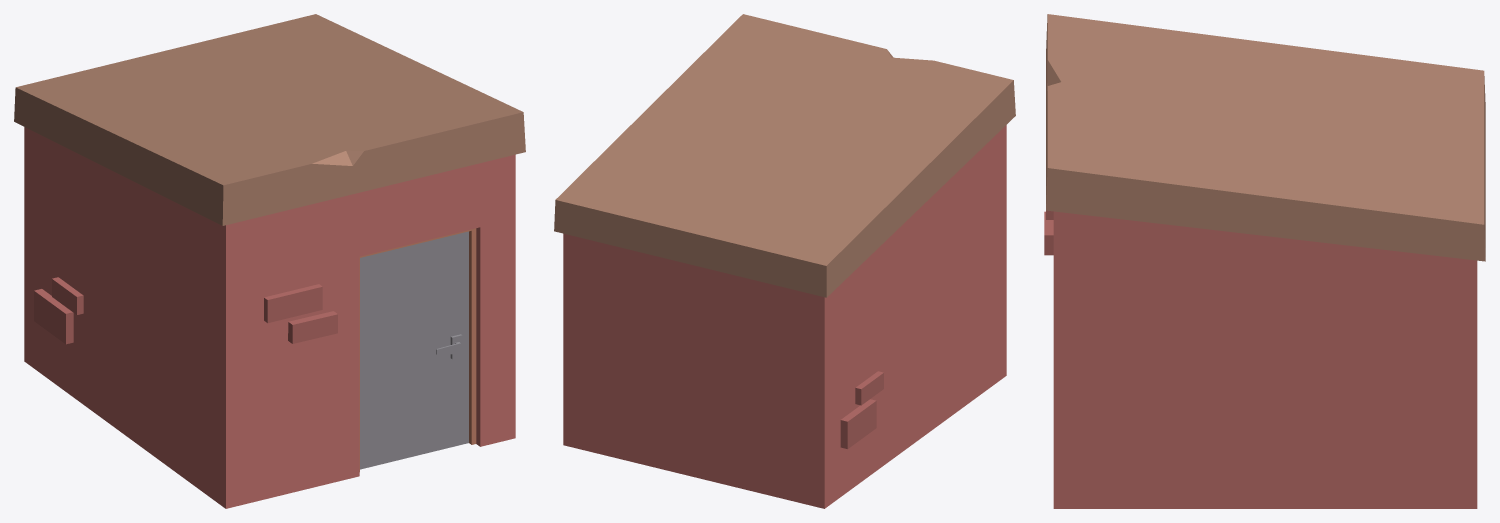
The model's file is building_02.glb.
3 views of the same model, side by side, from view 1: azimuth 30°, elevation 25°; view 2: azimuth 150°, elevation 25°; view 3: azimuth 270°, elevation 25° (orthographic). The views are drawn at different scales.
Parts seen in each view (by area): view 1: roof_exit; view 2: roof_exit; view 3: roof_exit.
Boxes of the visible parts, left/top/right/bottom form: roof_exit: left=14, top=14, right=525, bottom=508; roof_exit: left=554, top=14, right=1015, bottom=508; roof_exit: left=1044, top=14, right=1485, bottom=508.
Bounding box in the file's own units: 0.6242 × 0.6407 × 0.7456.
